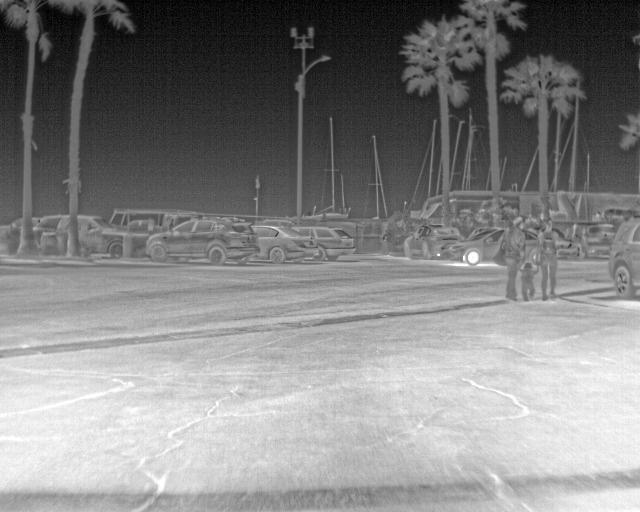bicycle: (140, 214, 260, 262), (606, 212, 639, 297), (289, 226, 354, 259), (251, 227, 312, 262), (79, 213, 124, 258), (447, 227, 500, 265), (402, 223, 458, 258), (28, 214, 64, 259), (579, 223, 617, 260)
empty: (502, 217, 525, 298), (536, 223, 558, 299), (516, 264, 534, 301)
